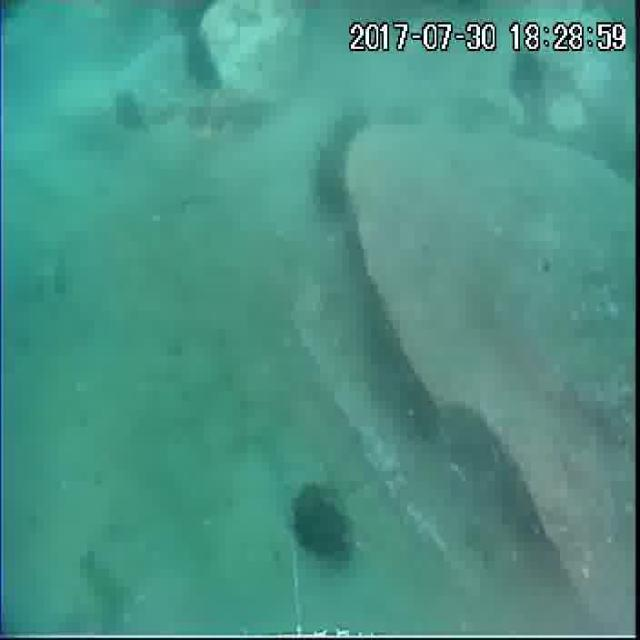echinus: (292, 482, 362, 572), (361, 295, 408, 371), (395, 371, 441, 442), (184, 34, 232, 94), (314, 147, 352, 212), (509, 47, 549, 101), (332, 106, 373, 151), (174, 0, 214, 28)
